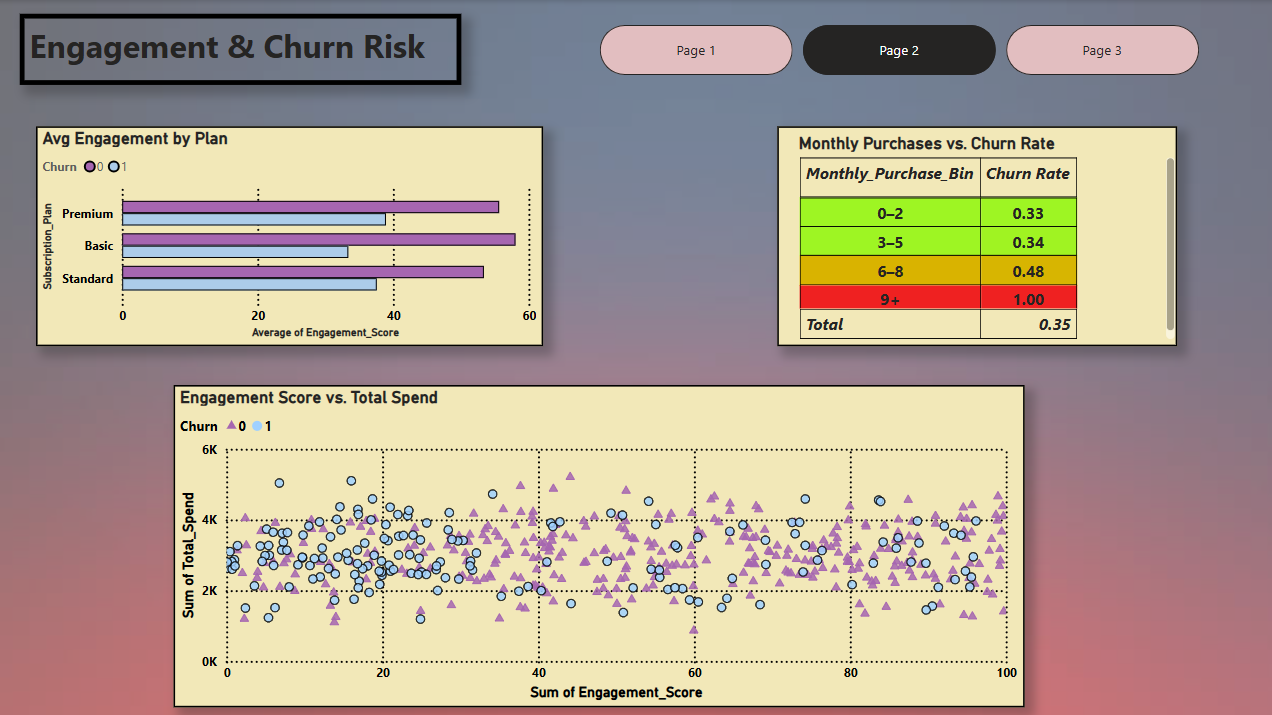

The page's visual inventory and layout, read from the dashboard file:
{"tool":"powerbi","page":{"name":"Page 2","canvas":[1280,720],"ordinal":1},"visuals":[{"type":"scatterChart","title":"Engagement Score vs. Total Spend","fields":{"X":["Sum(churn_prediction_dataset.Engagement_Score)"],"Y":["Sum(churn_prediction_dataset.Total_Spend)"],"Category":["churn_prediction_dataset.Customer_ID"],"Series":["churn_prediction_dataset.Churn"]},"box":[177.5,385,851.2,322.5],"z":0},{"type":"clusteredBarChart","title":"Avg Engagement by Plan","fields":{"Category":["churn_prediction_dataset.Subscription_Plan"],"Y":["Avg(churn_prediction_dataset.Engagement_Score)"],"Series":["churn_prediction_dataset.Churn"]},"box":[40,126.2,507.5,220],"z":1000},{"type":"tableEx","title":"Monthly Purchases vs. Churn Rate","fields":{"Values":["churn_prediction_dataset.Monthly_Purchase_Bin","churn_prediction_dataset.Churn Rate"]},"box":[781.2,126.2,400,220],"z":2000},{"type":"textbox","box":[23.8,13.8,441.2,71.2],"z":3000},{"type":"pageNavigator","box":[603.8,25,600,50],"z":3001}]}

Visuals, with their boxes in screenshot pixels (x1, y1, x2, y2), scaled from the page's 1280x720 canvas onto the 1272x715 screenshot:
"Engagement Score vs. Total Spend" scatterChart: crop(176, 382, 1022, 703)
"Avg Engagement by Plan" clusteredBarChart: crop(40, 125, 544, 344)
"Monthly Purchases vs. Churn Rate" tableEx: crop(776, 125, 1174, 344)
textbox: crop(24, 14, 462, 84)
pageNavigator: crop(600, 25, 1196, 74)
